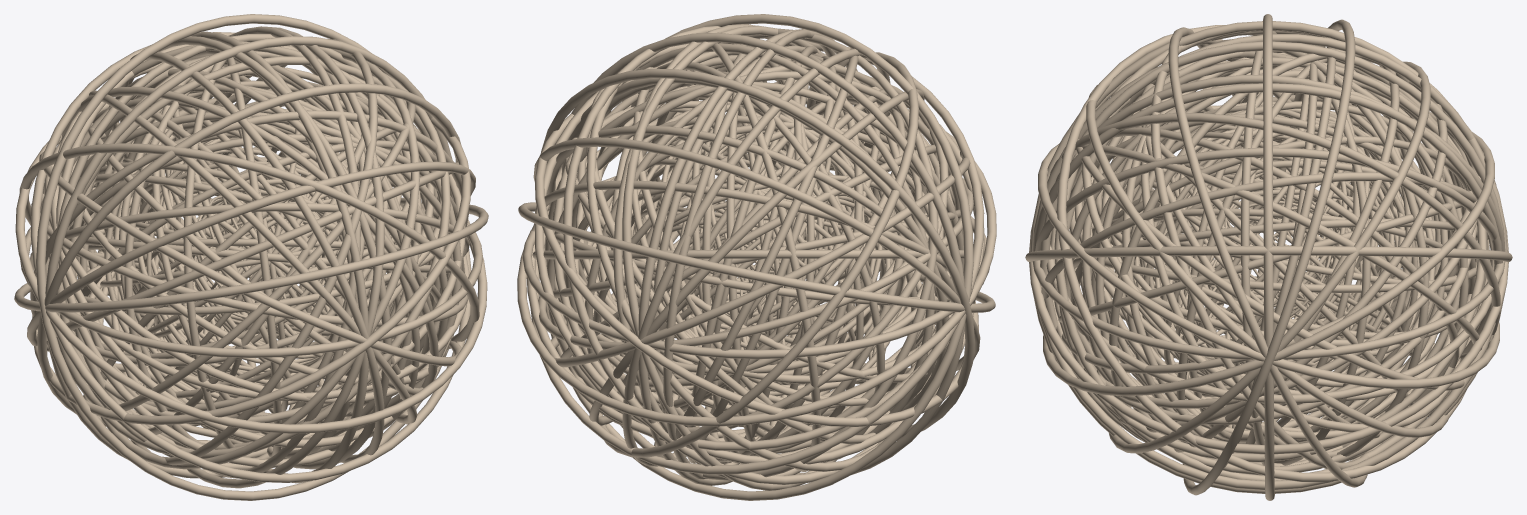
The model's file is yarn.glb.
3 renders of one model, left to right at view 1: azimuth 30°, elevation 25°; view 2: azimuth 150°, elevation 25°; view 3: azimuth 270°, elevation 25°, orthographic. The views are drawn at different scales.
Visible parts, largest first — view 1: BézierCircle.012, BézierCircle.010, BézierCircle.013, BézierCircle.008, BézierCircle.011, BézierCircle.029, BézierCircle.005, BézierCircle.014, BézierCircle.009, BézierCircle.002, BézierCircle, BézierCircle.006 (+66 smaller); view 2: BézierCircle.011, BézierCircle.014, BézierCircle.009, BézierCircle.012, BézierCircle.008, BézierCircle.005, BézierCircle.029, BézierCircle.013, BézierCircle.027, BézierCircle.010, BézierCircle, BézierCircle.007 (+64 smaller); view 3: BézierCircle.029, BézierCircle.014, BézierCircle.013, BézierCircle.012, BézierCircle.003, BézierCircle.007, BézierCircle.011, BézierCircle.010, BézierCircle.009, BézierCircle.008, BézierCircle, BézierCircle.005 (+69 smaller).
Boxes of the visible parts, x1,y1,x2,y2 form: BézierCircle.012: (36, 14, 453, 500); BézierCircle.010: (30, 32, 471, 482); BézierCircle.013: (15, 95, 487, 433); BézierCircle.008: (45, 36, 453, 478); BézierCircle.011: (37, 83, 460, 426); BézierCircle.029: (19, 143, 479, 349); BézierCircle.005: (32, 95, 470, 424); BézierCircle.014: (14, 204, 488, 312); BézierCircle.009: (27, 161, 475, 351); BézierCircle.002: (88, 49, 419, 469); BézierCircle: (20, 157, 482, 357); BézierCircle.006: (128, 26, 384, 488); BézierCircle.011: (544, 14, 973, 500); BézierCircle.014: (517, 88, 996, 426); BézierCircle.009: (530, 41, 984, 474); BézierCircle.012: (541, 68, 974, 439); BézierCircle.008: (559, 32, 965, 474); BézierCircle.005: (535, 98, 978, 426); BézierCircle.029: (598, 52, 918, 457); BézierCircle.013: (518, 202, 995, 312); BézierCircle.027: (563, 26, 935, 484); BézierCircle.010: (533, 137, 980, 371); BézierCircle: (522, 156, 989, 359); BézierCircle.007: (622, 48, 890, 466); BézierCircle.029: (1056, 25, 1466, 481); BézierCircle.014: (1038, 143, 1499, 388); BézierCircle.013: (1043, 126, 1494, 396); BézierCircle.012: (1182, 19, 1355, 495); BézierCircle.003: (1029, 111, 1508, 454); BézierCircle.007: (1030, 21, 1507, 493); BézierCircle.011: (1168, 27, 1367, 487); BézierCircle.010: (1109, 61, 1430, 453); BézierCircle.009: (1086, 85, 1448, 437); BézierCircle.008: (1263, 14, 1274, 500); BézierCircle: (1032, 185, 1505, 359); BézierCircle.005: (1025, 246, 1512, 268).
Bounding box in the file's own units: 0.2142 × 0.2093 × 0.2097.
